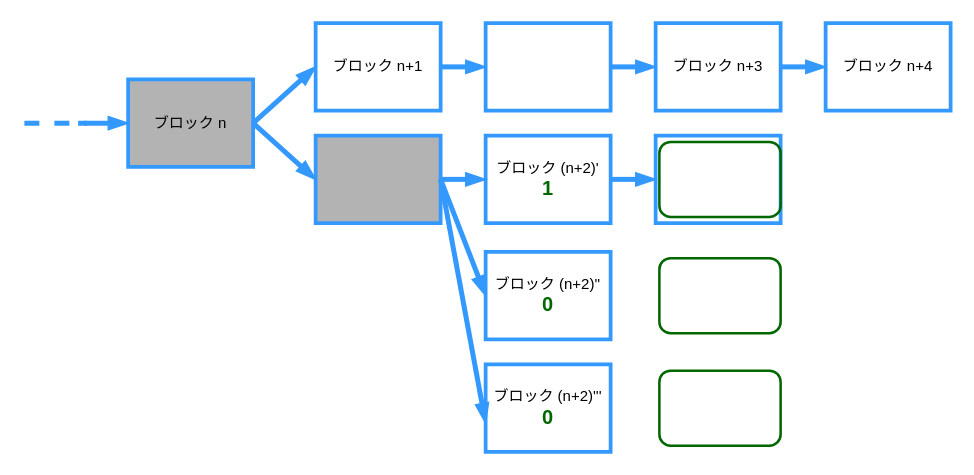
This 974x475 diagram has some shape labels left out. Each missing label, with the box of its shape:
ブロック (n+1)': (313, 133, 442, 224)
ブロック (n+3)': (653, 133, 782, 224)
ブロック n+2: (483, 21, 612, 112)
